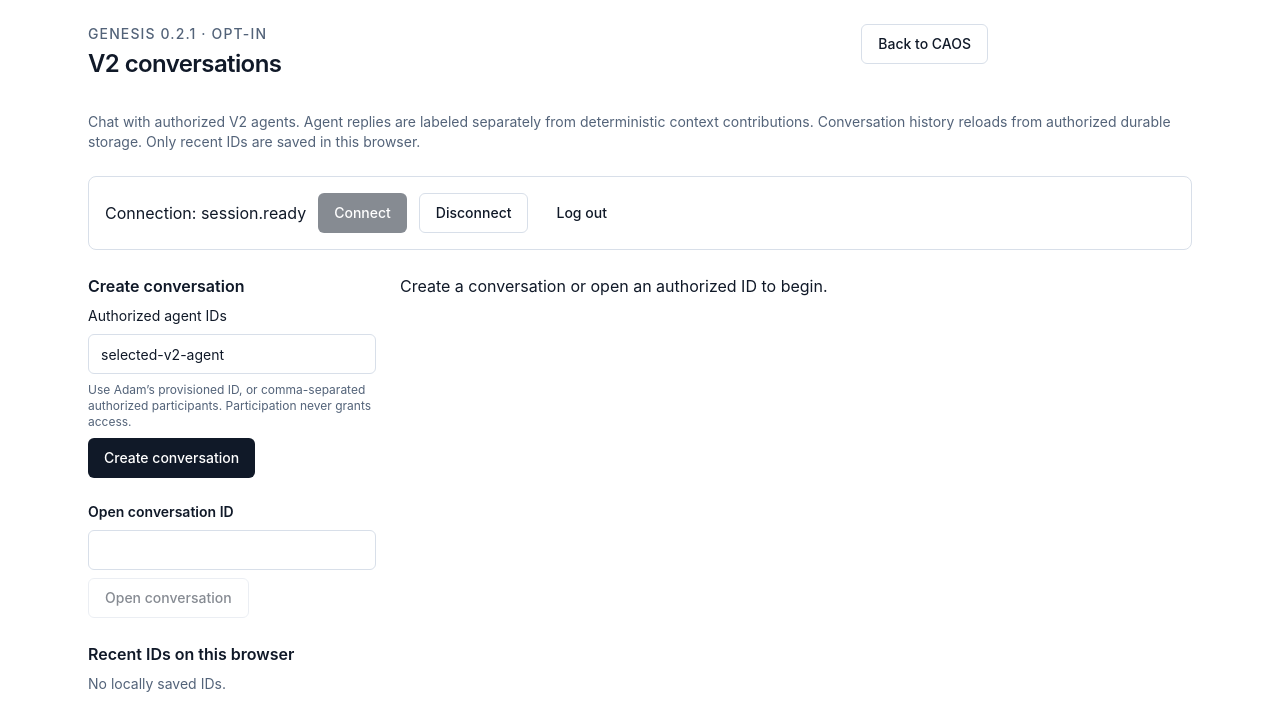
Test: preselects the discovered V2 agent without granting or creating until requested
The width and height of the screenshot is (1280, 720).
Check: the field labelled "Authorized agent IDs" holds "selected-v2-agent", box [88,334,376,374]
What coordinates should you click on to do the following:
click the button "Create conversation"
I would click on:
 (172, 458)
Its box is [88,438,255,478].
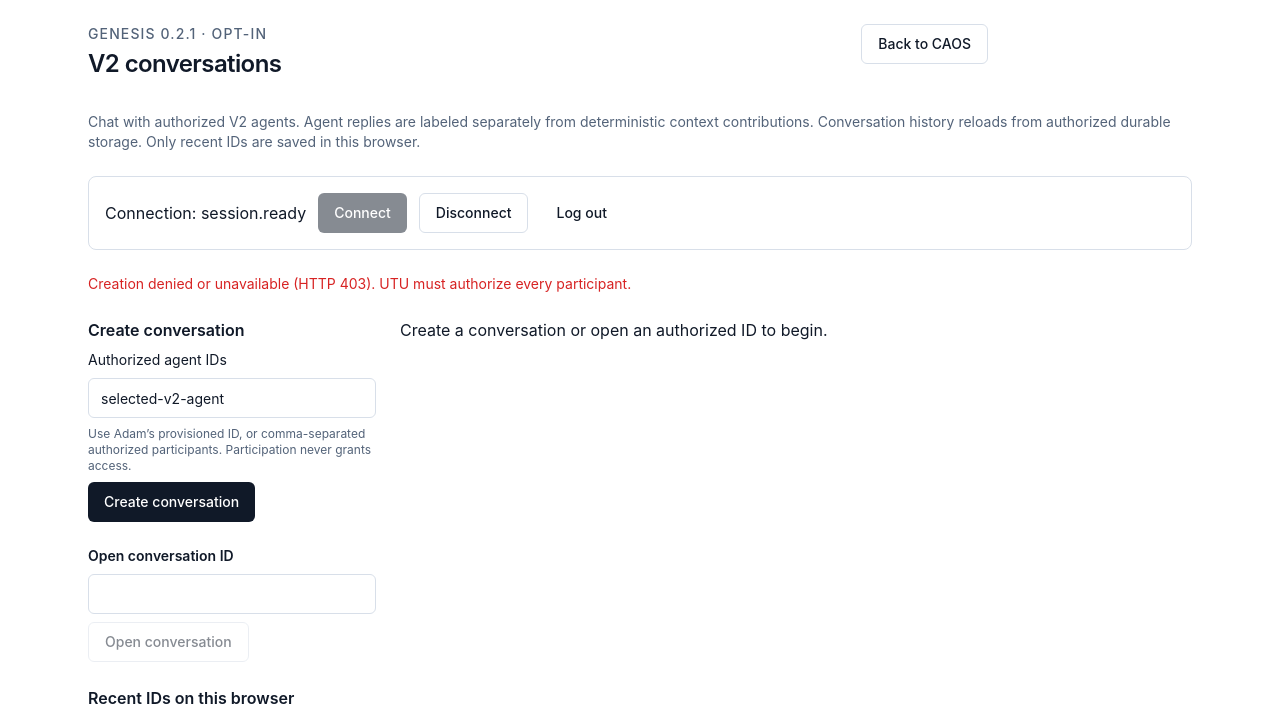
Check: the 2nd message shows "HTTP 403", box [88,275,631,292]
